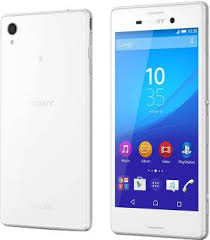sony: (110, 1, 210, 240), (1, 7, 94, 230)
